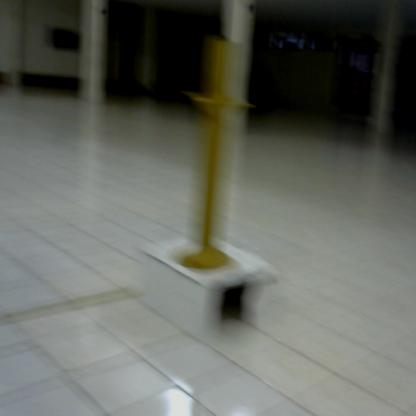pole: (169, 27, 262, 275)
